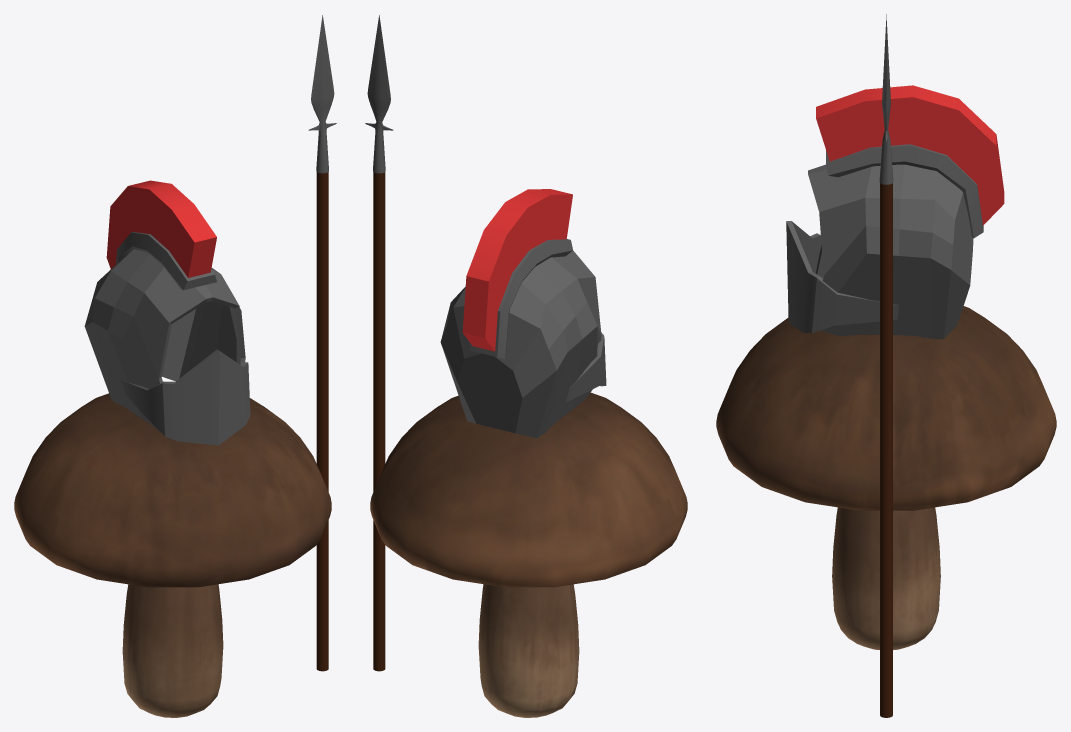
File: Schroom_Warrior 1.fbx
3 renders of one model, left to right at view 1: azimuth 30°, elevation 25°; view 2: azimuth 150°, elevation 25°; view 3: azimuth 270°, elevation 25°, orthographic. The views are drawn at different scales.
Visible parts, largest first — view 1: Warrior, Warrior.006; view 2: Warrior, Warrior.006; view 3: Warrior, Warrior.006.
Part boxes in pixels (<box>): Warrior: <box>14,180,331,717</box>; Warrior.006: <box>308,15,336,671</box>; Warrior: <box>370,189,687,717</box>; Warrior.006: <box>365,15,393,671</box>; Warrior: <box>716,85,1056,649</box>; Warrior.006: <box>879,14,893,717</box>.
Bounding box in the file's own units: 221 × 465 × 203.
